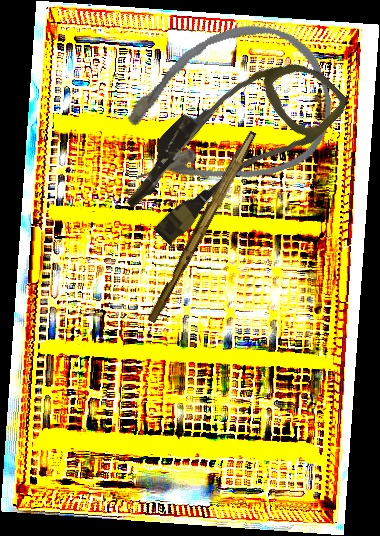Cannula: (110, 24, 353, 266), (100, 5, 348, 217)
Scalpel Handle: (146, 127, 257, 326)
